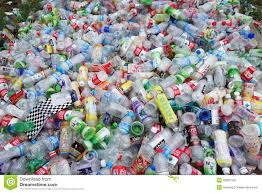garbage: (1, 2, 262, 174)
